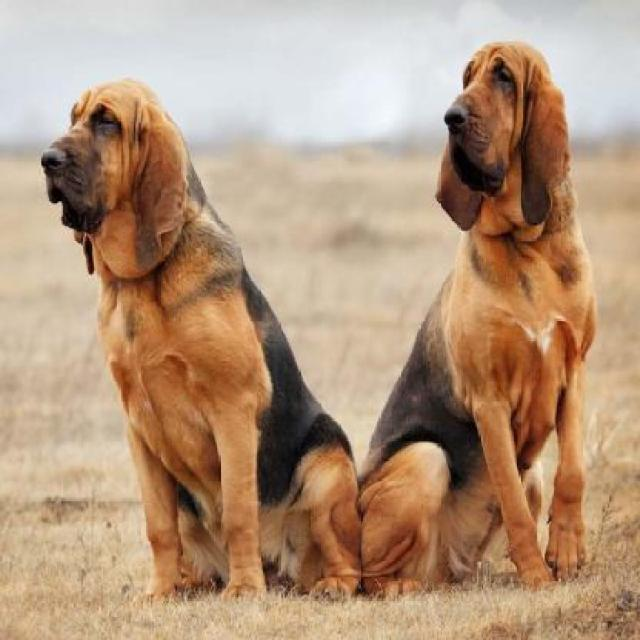animals: (36, 69, 370, 603), (348, 37, 603, 597)
